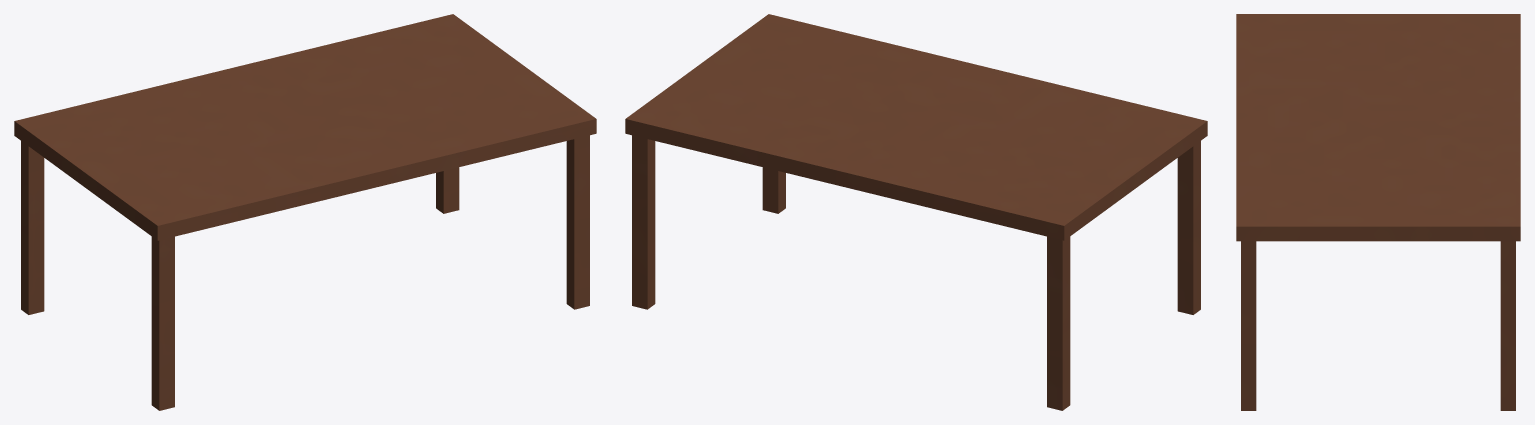
File: Desk_01_02.fbx
3 renders of one model, left to right at view 1: azimuth 30°, elevation 25°; view 2: azimuth 150°, elevation 25°; view 3: azimuth 270°, elevation 25°, orthographic.
Parts seen in each view (by area): view 1: Desk_01_02; view 2: Desk_01_02; view 3: Desk_01_02.
Boxes of the visible parts, x1,y1,x2,y2 form: Desk_01_02: [14, 14, 596, 410]; Desk_01_02: [625, 14, 1207, 410]; Desk_01_02: [1236, 14, 1520, 410].
Size of the model in its own units: 1.98 by 0.8103 by 1.12.
